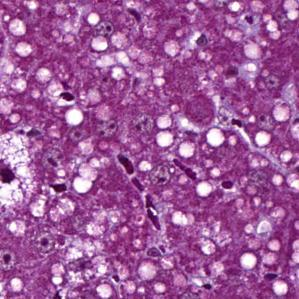ballooning: (4, 126, 40, 221)
